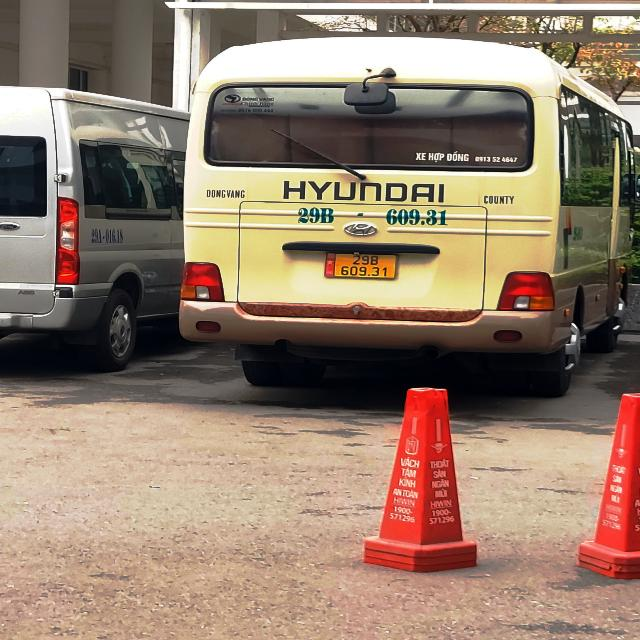license_plate: (326, 253, 397, 279)
